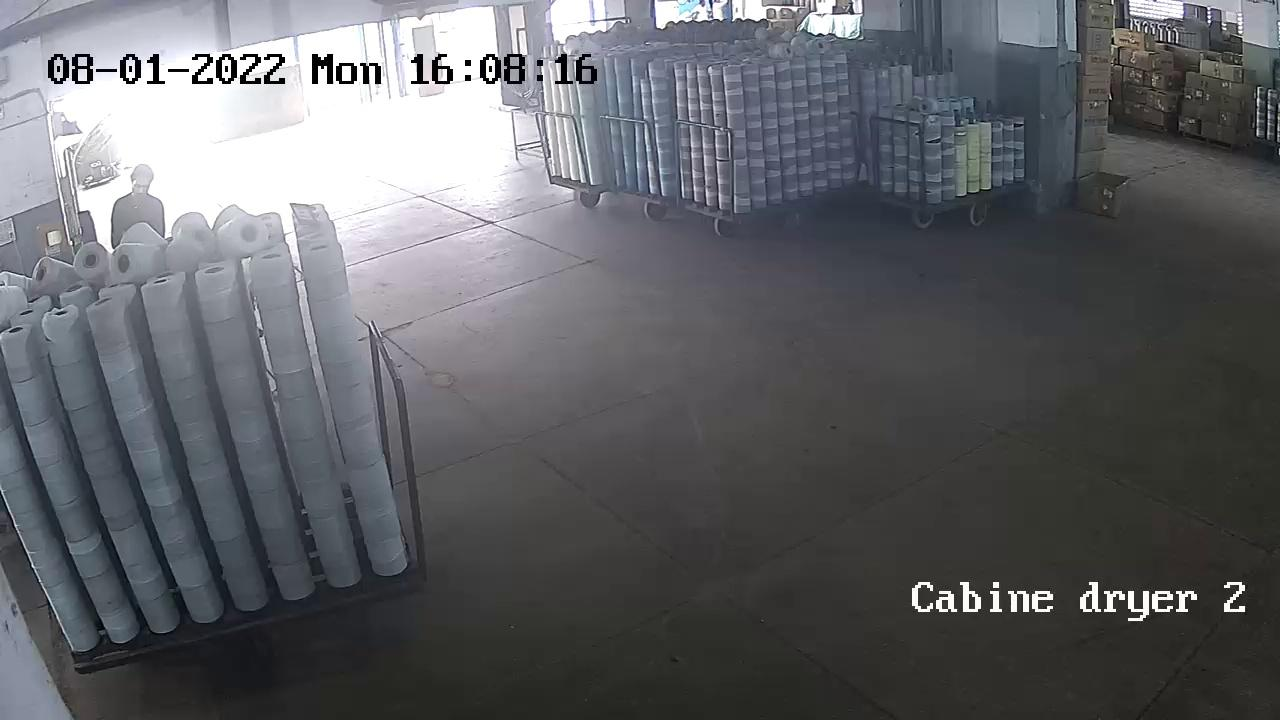person: (112, 165, 161, 245)
